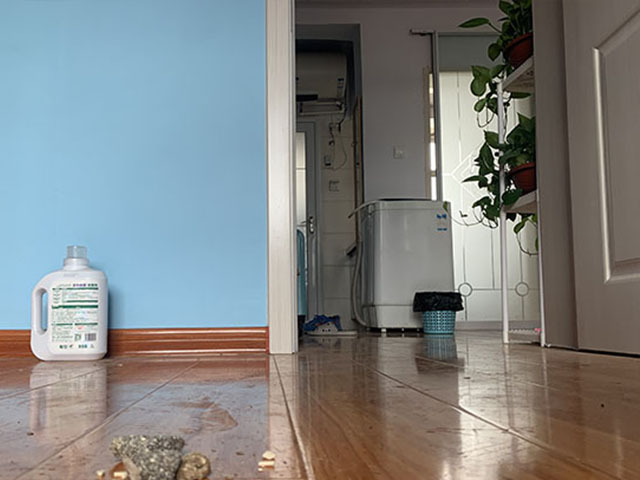feces: (93, 431, 214, 480)
slippers: (305, 321, 360, 337)
trashcan: (412, 291, 466, 335)
